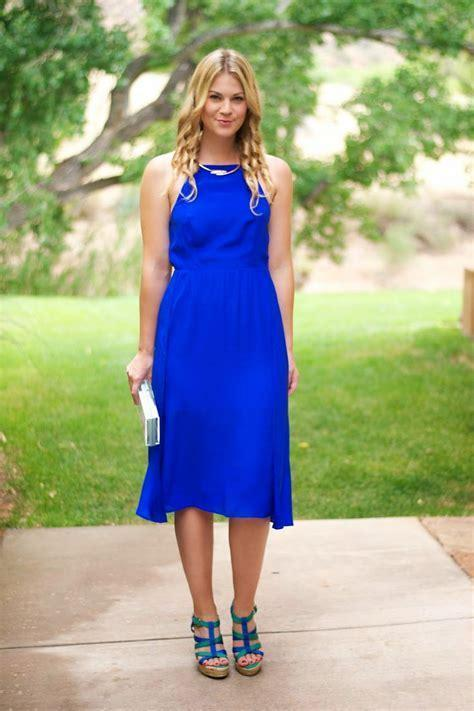dress: (136, 145, 292, 528)
